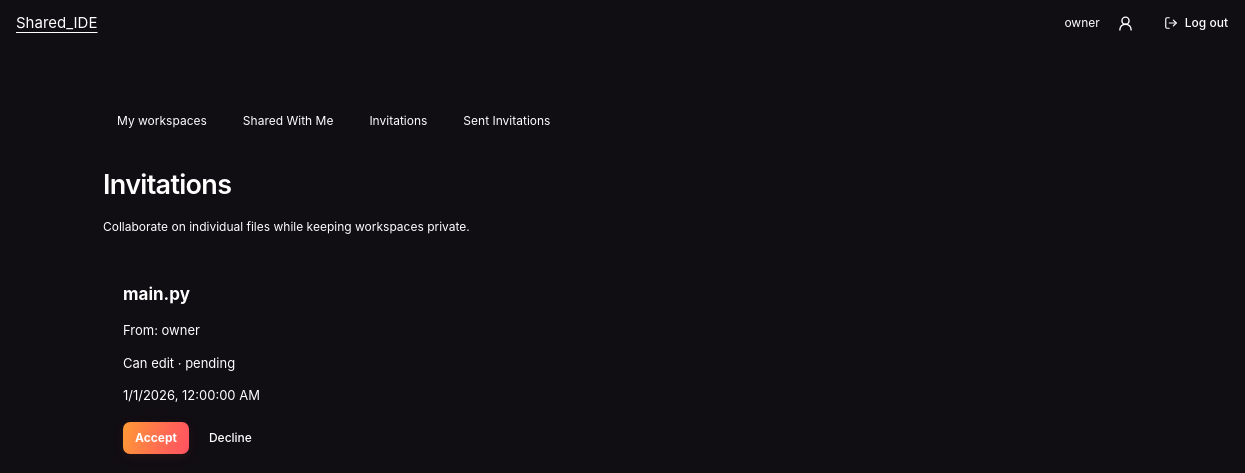
shows incoming invitations and accepts only the selected request
Expected: the heading "main.py" is shown, [123,284,190,304]
Click the button "Accept" at (156, 438), box [123,422,189,454]
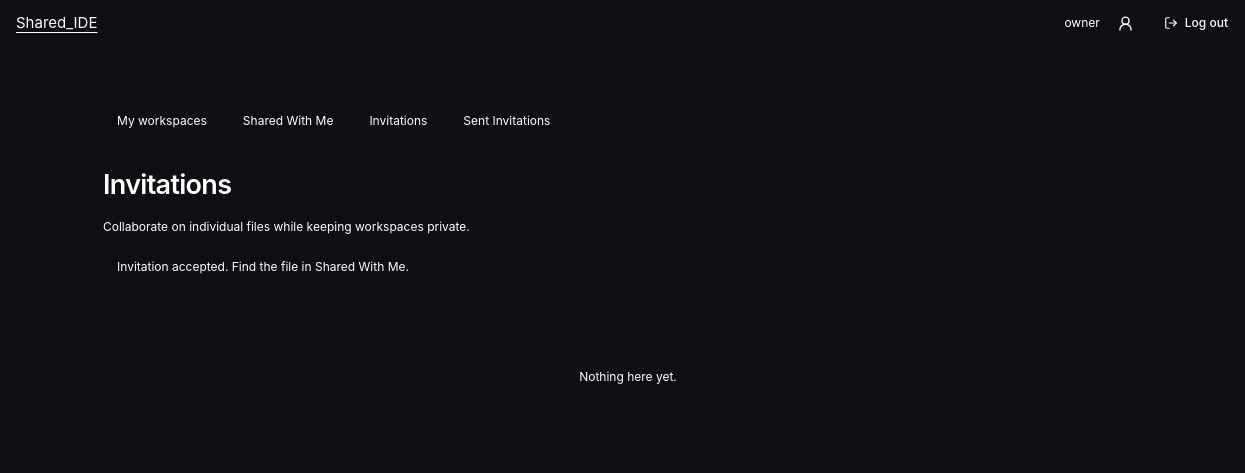
Result: the text "Invitation accepted. Find the file in Shared With Me." is shown at [117,258,409,274]
Result: the heading "main.py" is gone
